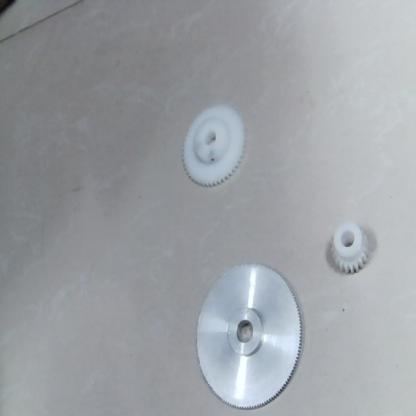FOD: (193, 255, 303, 412), (177, 103, 248, 193), (330, 220, 374, 275)
